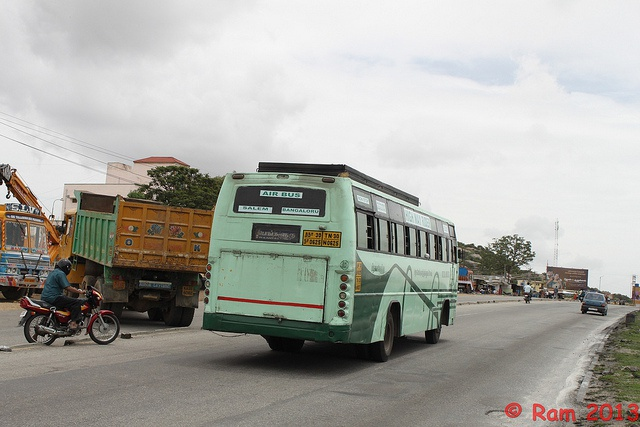non-vehicle: (17, 285, 120, 343), (522, 291, 531, 304)
